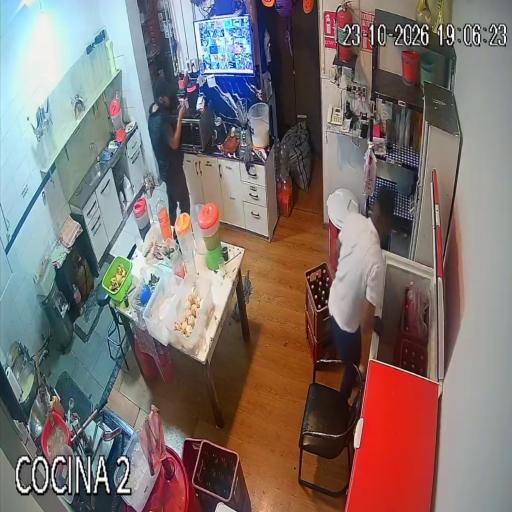Envase Llajua: (52, 394, 64, 417)
Jarra1: (133, 197, 150, 238)
Jarra2: (175, 214, 193, 251)
Jarra3: (192, 207, 210, 253)
Microondas: (170, 106, 214, 151)
Persona1: (148, 81, 190, 223)
Persona4: (328, 189, 395, 370), (340, 366, 357, 400)
Taper2: (125, 266, 169, 335)
Taper3: (143, 270, 183, 345)
Taper4: (161, 273, 214, 359)
